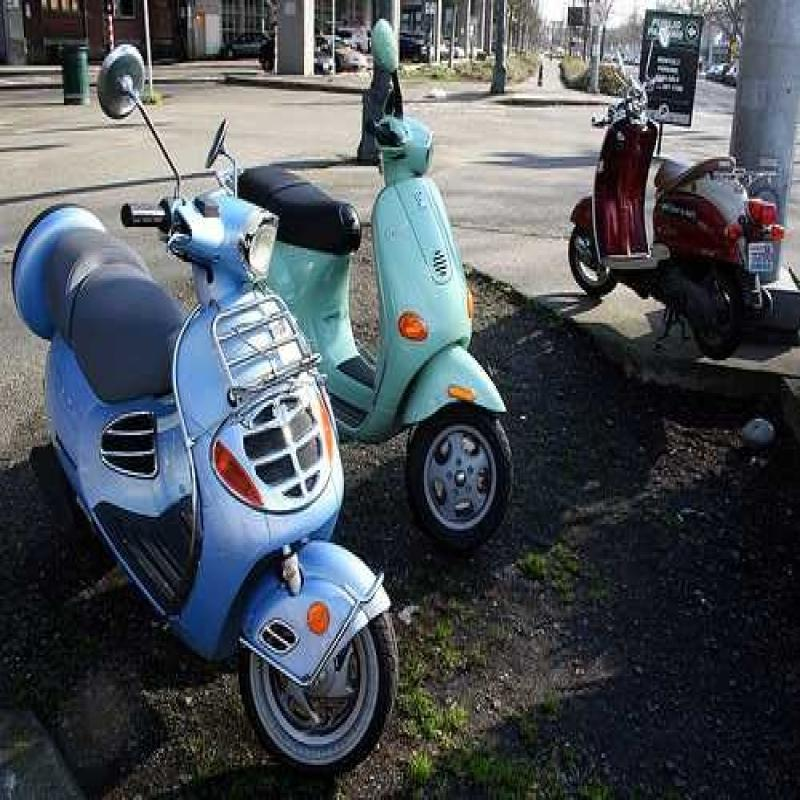bike: (53, 130, 413, 773), (248, 73, 521, 537), (566, 69, 790, 384)
